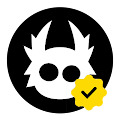fraud: (70, 74, 106, 110)
